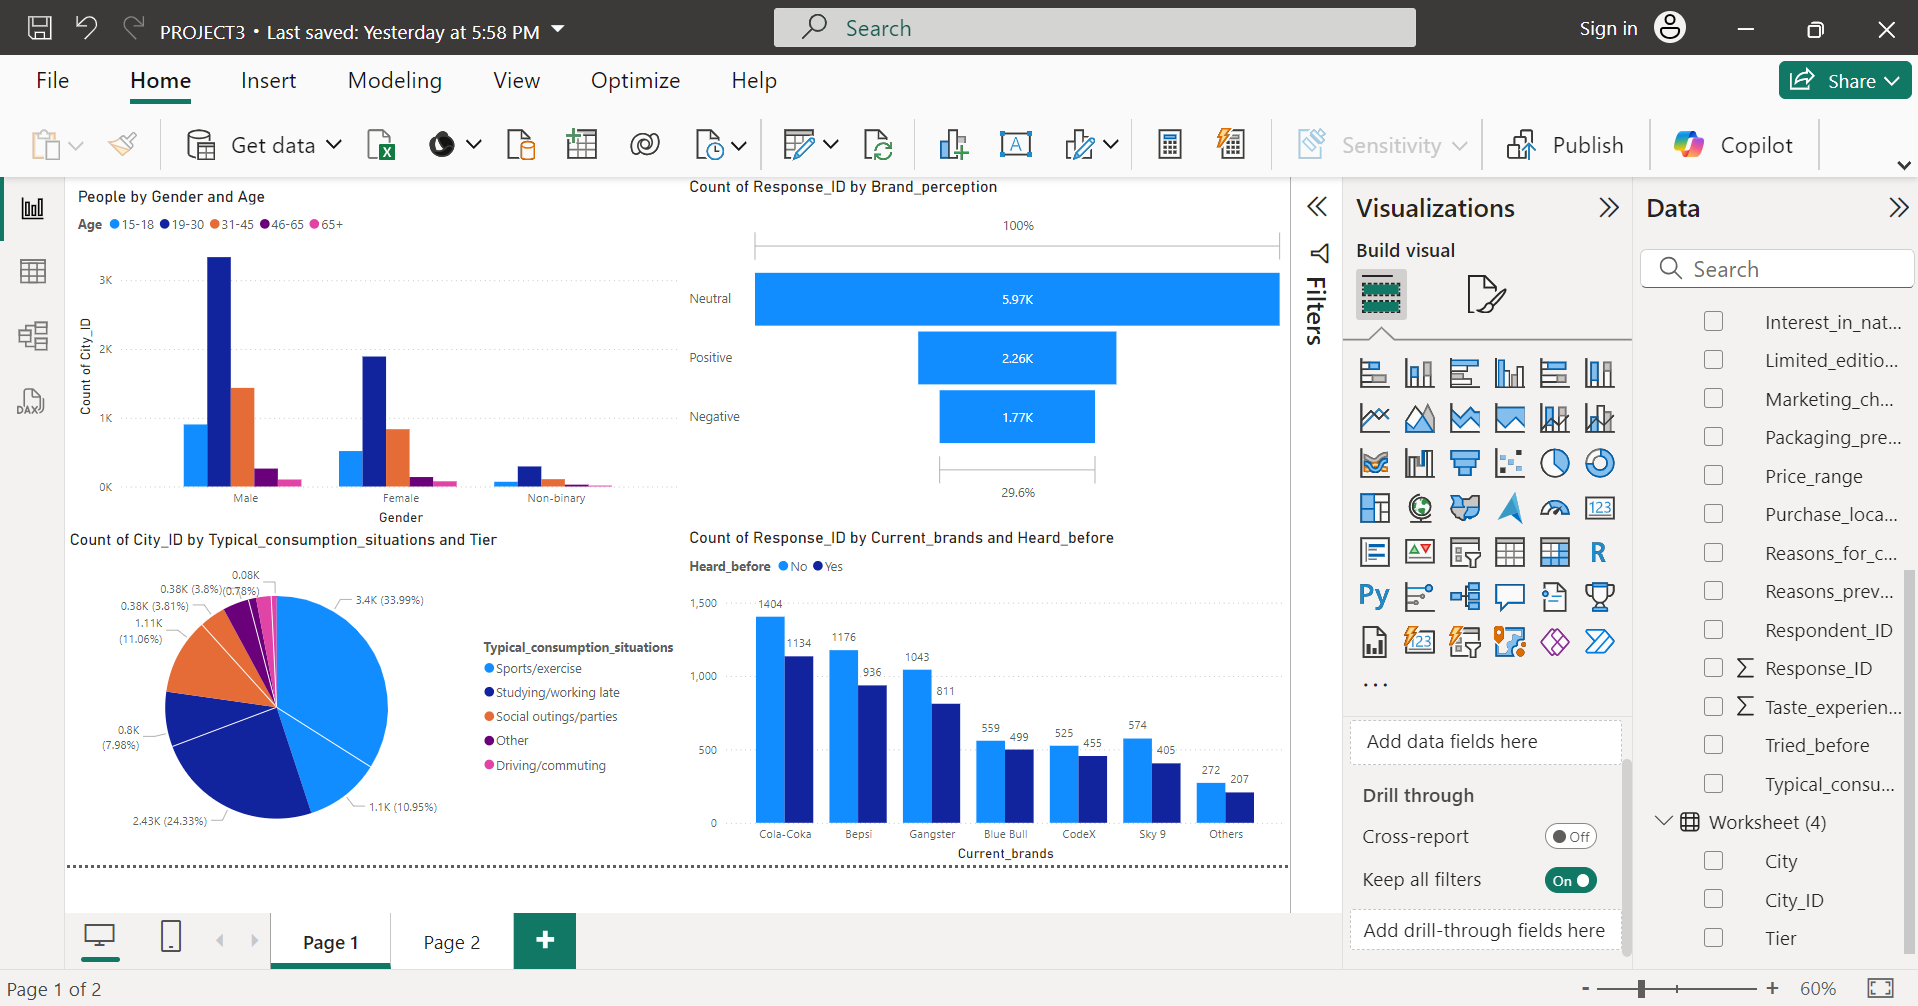

This screenshot's page, from the dashboard's own definition file:
{"tool":"powerbi","page":{"name":"Page 1","canvas":[1280,720],"ordinal":0},"visuals":[{"type":"clusteredColumnChart","title":"People by Gender and Age","fields":{"Category":["Worksheet (2).Gender"],"Y":["CountNonNull(Worksheet (2).City_ID)"],"Series":["Worksheet (2).Age"]},"box":[8.3,10,640,358.3],"z":0},{"type":"pieChart","fields":{"Y":["CountNonNull(Worksheet (2).City_ID)"],"Series":["Worksheet (4).Tier"],"Category":["Worksheet (3).Typical_consumption_situations"]},"box":[0,368.3,638.3,351.7],"z":1000},{"type":"clusteredColumnChart","fields":{"Y":["CountNonNull(Worksheet (3).Response_ID)"],"Category":["Worksheet (3).Current_brands"],"Series":["Worksheet (3).Heard_before"]},"box":[647.5,367.5,632.5,352.5],"z":2000},{"type":"funnel","fields":{"Category":["Worksheet (3).Brand_perception"],"Y":["CountNonNull(Worksheet (3).Response_ID)"]},"box":[648,0,632,359],"z":3000}]}

Visuals, with their boxes on the page's 1280x720 design canvas (x1, y1, x2, y2). These are canvas units, not pixel positions in the 1918x1006 screenshot, which may show the page scaled, cropped or inside an application window:
"People by Gender and Age" clusteredColumnChart: (8,10,648,368)
pieChart - CountNonNull(Worksheet (2).City_ID) x Worksheet (4).Tier: (0,368,638,720)
clusteredColumnChart - CountNonNull(Worksheet (3).Response_ID) x Worksheet (3).Current_brands: (648,368,1280,720)
funnel - Worksheet (3).Brand_perception x CountNonNull(Worksheet (3).Response_ID): (648,0,1280,359)
